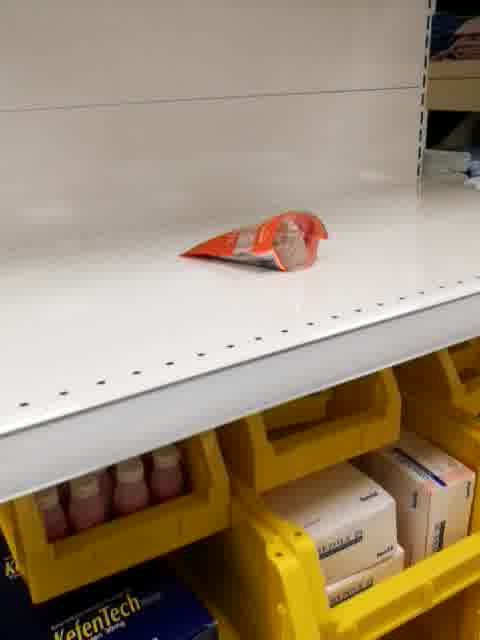whitechia: (177, 208, 330, 277)
